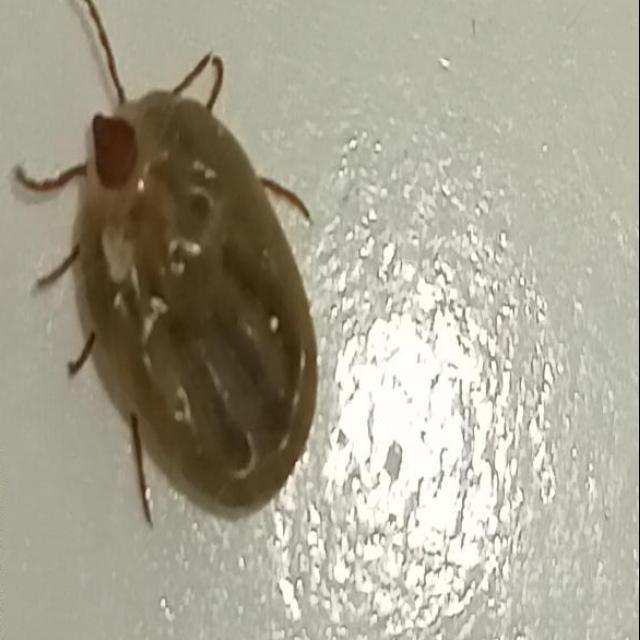Rhipicephalus Sanguineus-F-Fed: (19, 5, 319, 552)
